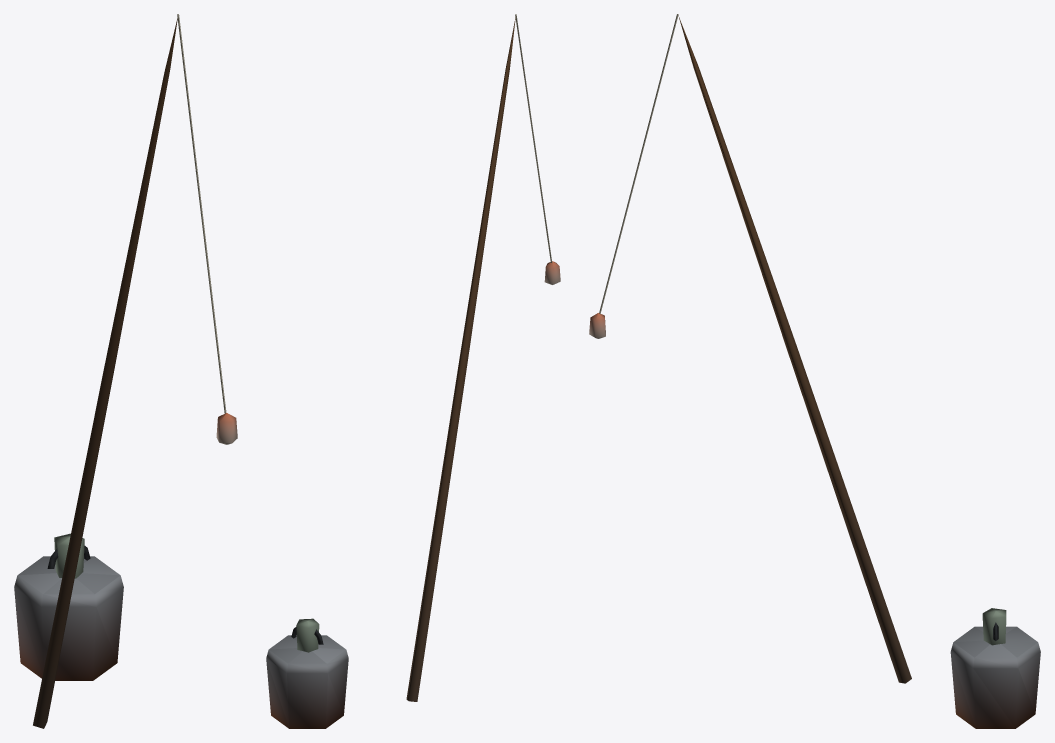
The model's file is fishing-pole.glb.
The picture shows the model from 3 angles, left to right: view 1: azimuth 30°, elevation 25°; view 2: azimuth 150°, elevation 25°; view 3: azimuth 270°, elevation 25°; orthographic projection. The views are drawn at different scales.
Visible parts, largest first — view 1: fishing_pole; view 2: fishing_pole; view 3: fishing_pole.
Boxes of the visible parts, box(x1,y1,x2,y2) form: fishing_pole: box(14, 14, 237, 728); fishing_pole: box(266, 14, 560, 728); fishing_pole: box(589, 14, 1040, 728).
Size of the model in its own units: 0.4806 by 2.78 by 1.7.
